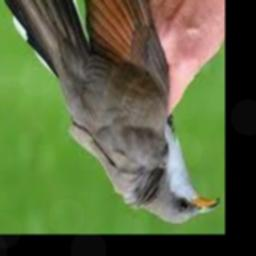Cuckoo: (0, 0, 220, 225)
